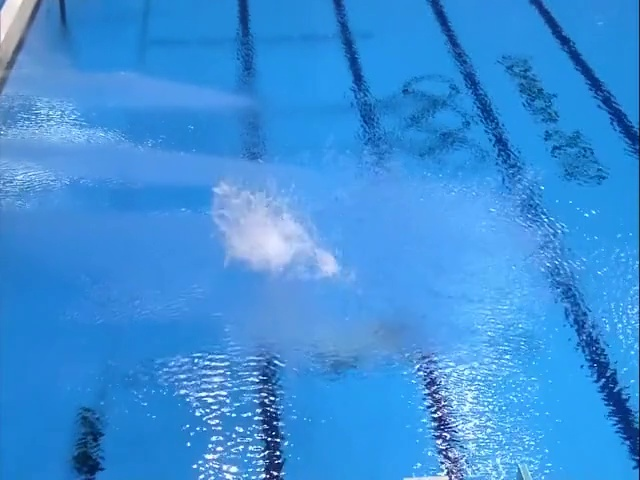splash: (210, 181, 340, 274)
